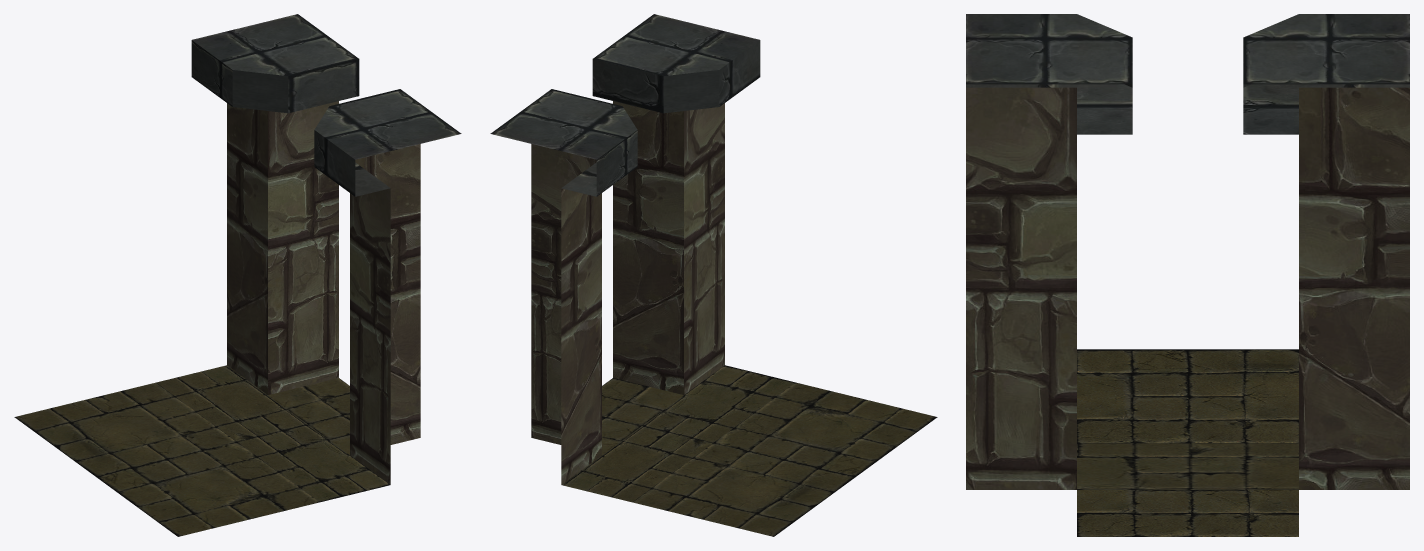
The model's file is two_pillars_tile_001.FBX.
3 views of the same model, side by side, from view 1: azimuth 30°, elevation 25°; view 2: azimuth 150°, elevation 25°; view 3: azimuth 270°, elevation 25° (orthographic). The views are drawn at different scales.
Visible parts, largest first — view 1: Plane003; view 2: Plane003; view 3: Plane003.
Part boxes in pixels (x1,y1,x2,y2): Plane003: (14,14,461,536); Plane003: (490,14,937,536); Plane003: (966,14,1409,536).
Size of the model in its own units: 40 by 45 by 40.
Materials: 1 (1 with a texture image).
